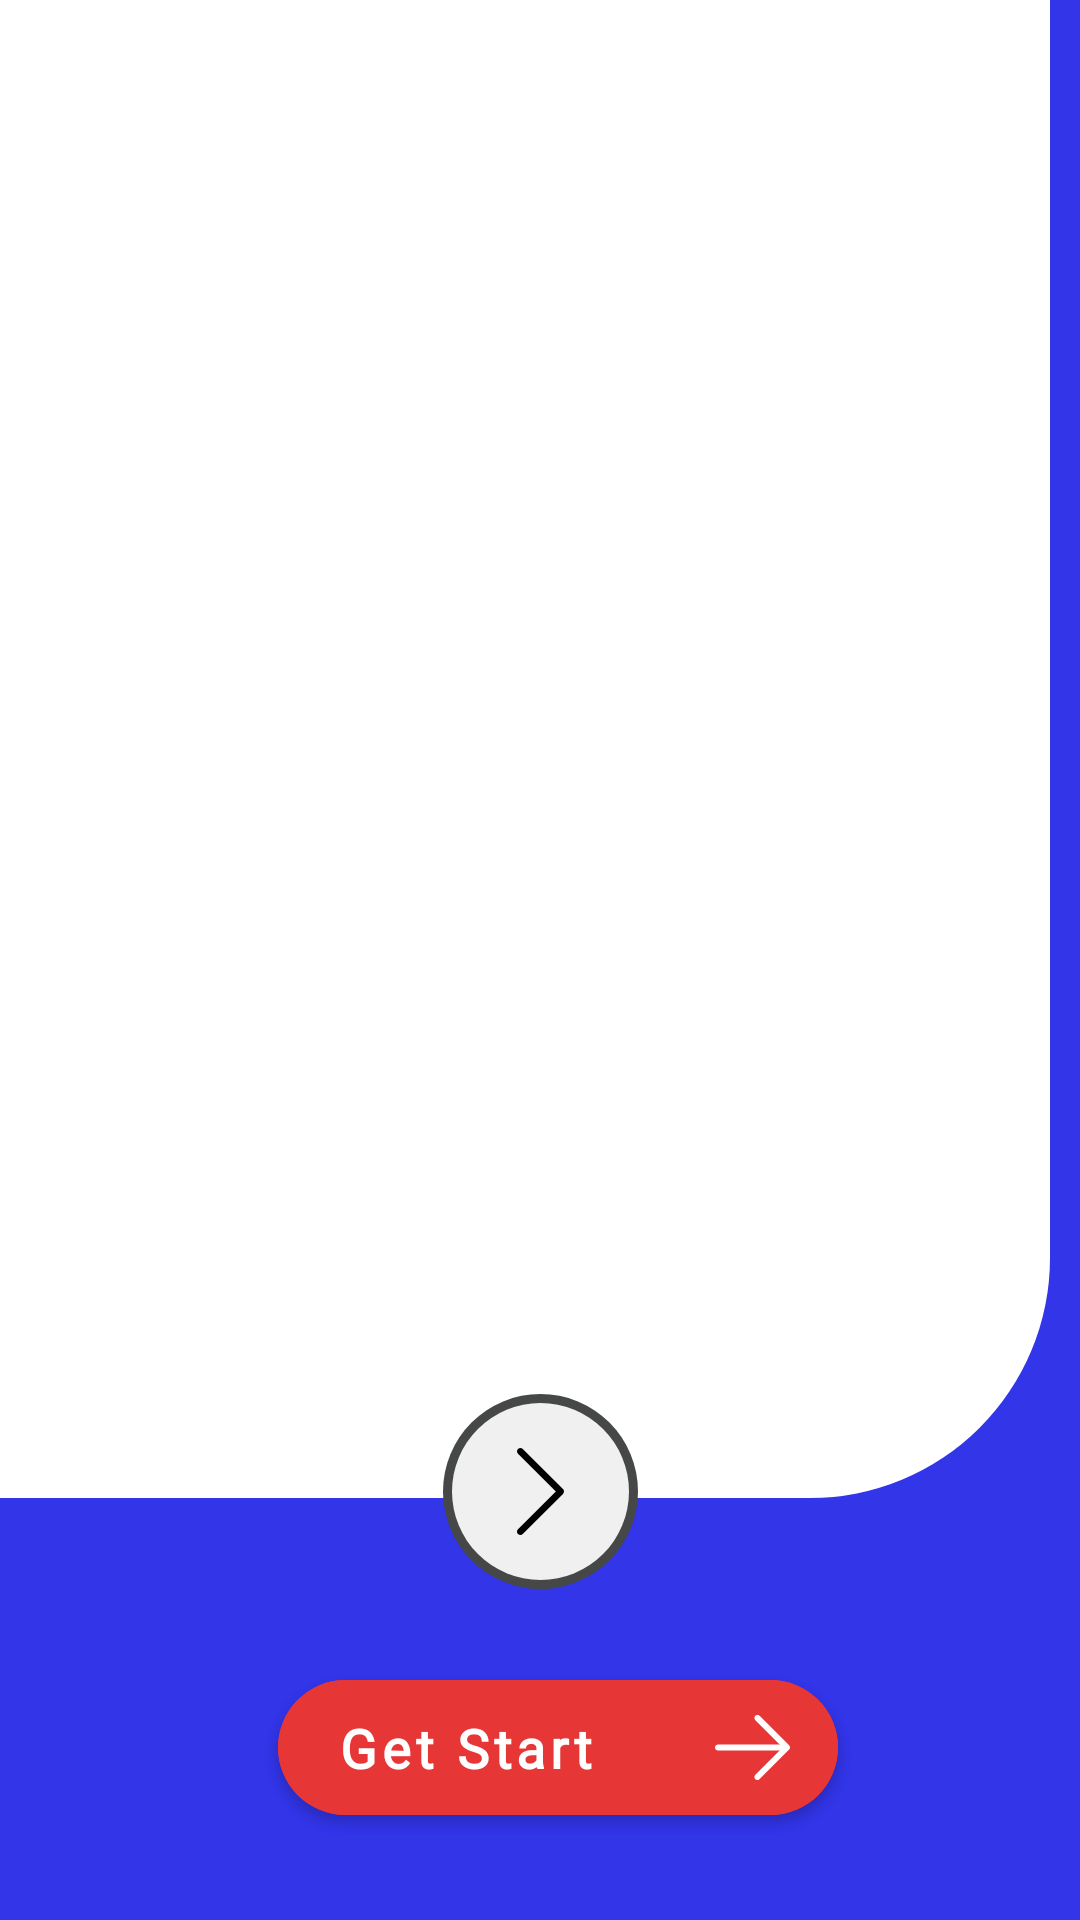

Icon click points for this 1080 × 1920 phone screenshot, format (x=x, y=y):
next: (x=540, y=1491)
